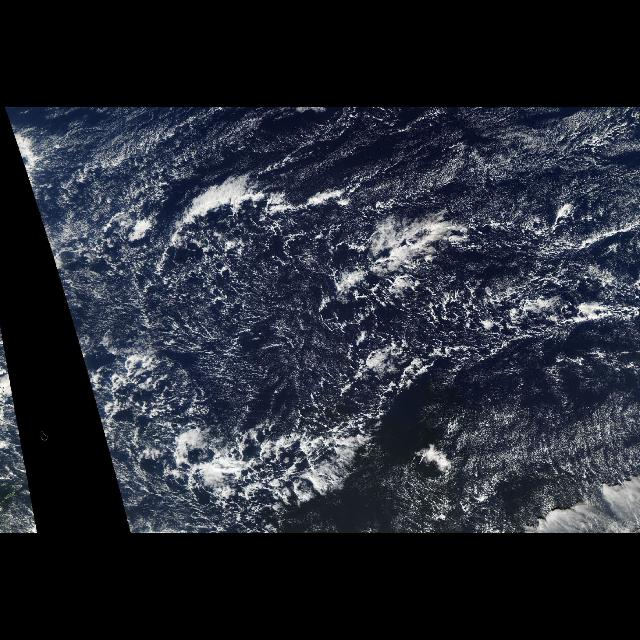Fish: (106, 347, 410, 517)
Gravel: (114, 114, 632, 488)
Sugar: (41, 109, 371, 407), (375, 112, 639, 245), (411, 393, 635, 493)
